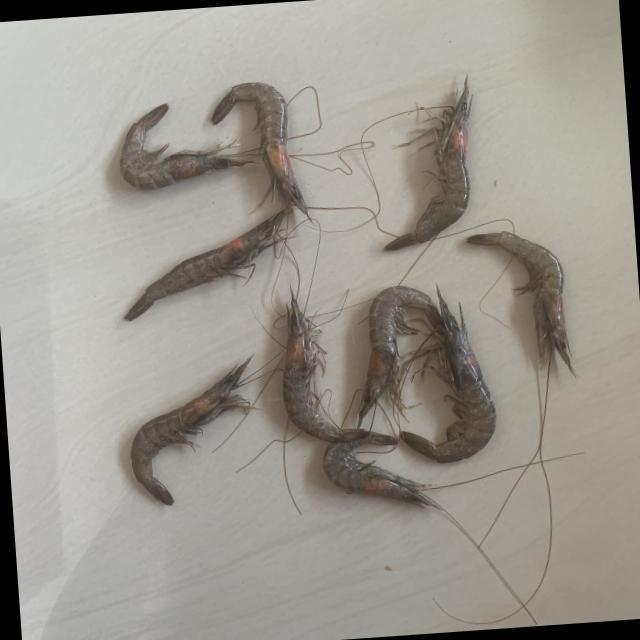shrimp: (130, 355, 252, 505), (123, 210, 284, 320), (282, 292, 397, 445), (403, 288, 496, 462), (467, 231, 575, 375), (384, 74, 471, 249), (211, 81, 307, 215), (359, 286, 443, 420), (119, 103, 248, 189), (322, 441, 438, 508)
